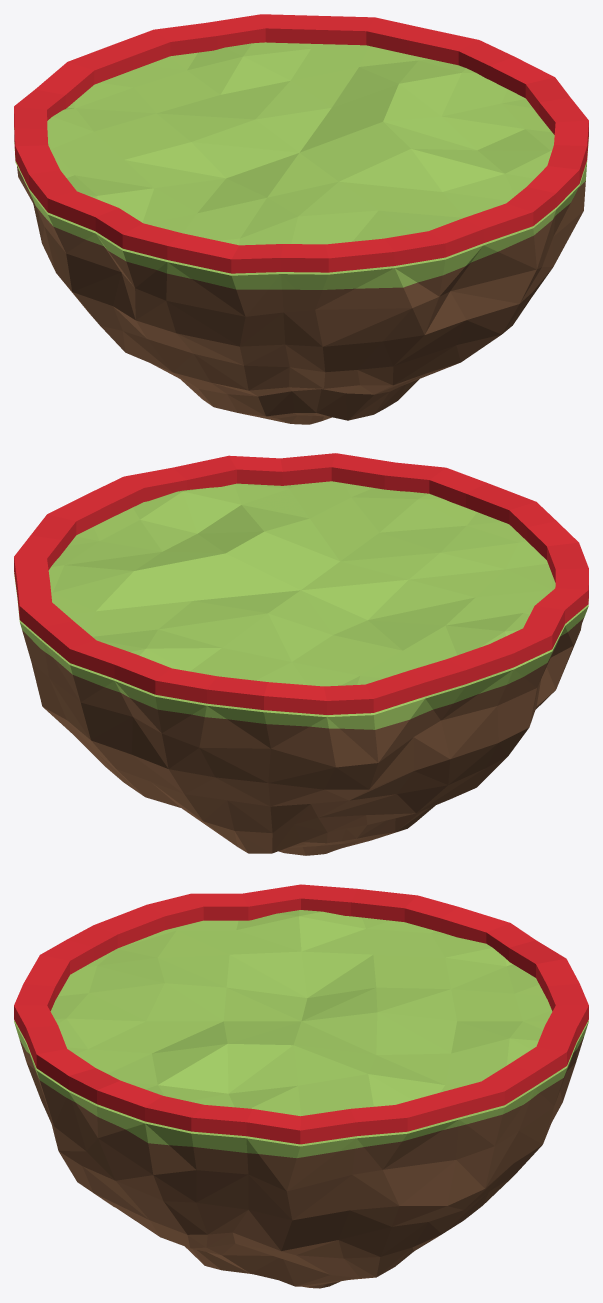
Rendered from baseMed.fbx.
3 renders of one model, top to bottom at view 1: azimuth 30°, elevation 25°; view 2: azimuth 150°, elevation 25°; view 3: azimuth 270°, elevation 25°, orthographic.
Visible parts, largest first — view 1: Circle, Circle.001; view 2: Circle, Circle.001; view 3: Circle, Circle.001.
Part boxes in pixels (<box>): Circle: <box>14,42,588,424</box>; Circle.001: <box>14,14,588,273</box>; Circle: <box>14,481,588,855</box>; Circle.001: <box>14,453,588,714</box>; Circle: <box>14,910,588,1288</box>; Circle.001: <box>14,884,588,1144</box>.
Bounding box in the file's own units: 201 × 101 × 200.
